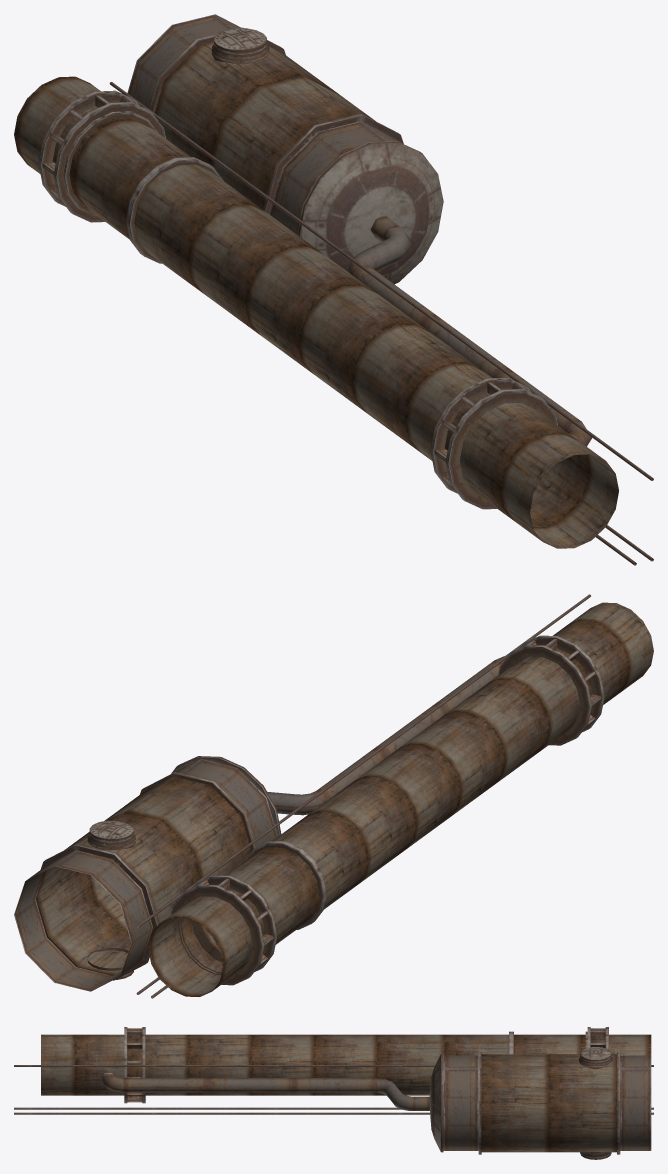
The picture shows the model from 3 angles, top to bottom: view 1: azimuth 30°, elevation 25°; view 2: azimuth 150°, elevation 25°; view 3: azimuth 270°, elevation 25°; orthographic projection. The views are drawn at different scales.
Parts seen in each view (by area): view 1: LOD0_0_dc, LOD0_1_dc; view 2: LOD0_0_dc, LOD0_1_dc; view 3: LOD0_0_dc, LOD0_1_dc.
Boxes of the visible parts, x1,y1,x2,y2 form: LOD0_0_dc: (14, 41, 618, 548); LOD0_1_dc: (38, 14, 653, 565); LOD0_0_dc: (36, 602, 653, 996); LOD0_1_dc: (14, 594, 604, 998); LOD0_0_dc: (41, 1034, 651, 1152); LOD0_1_dc: (14, 1027, 653, 1159).
Bounding box in the file's own units: 29.06 × 18.27 × 102.
